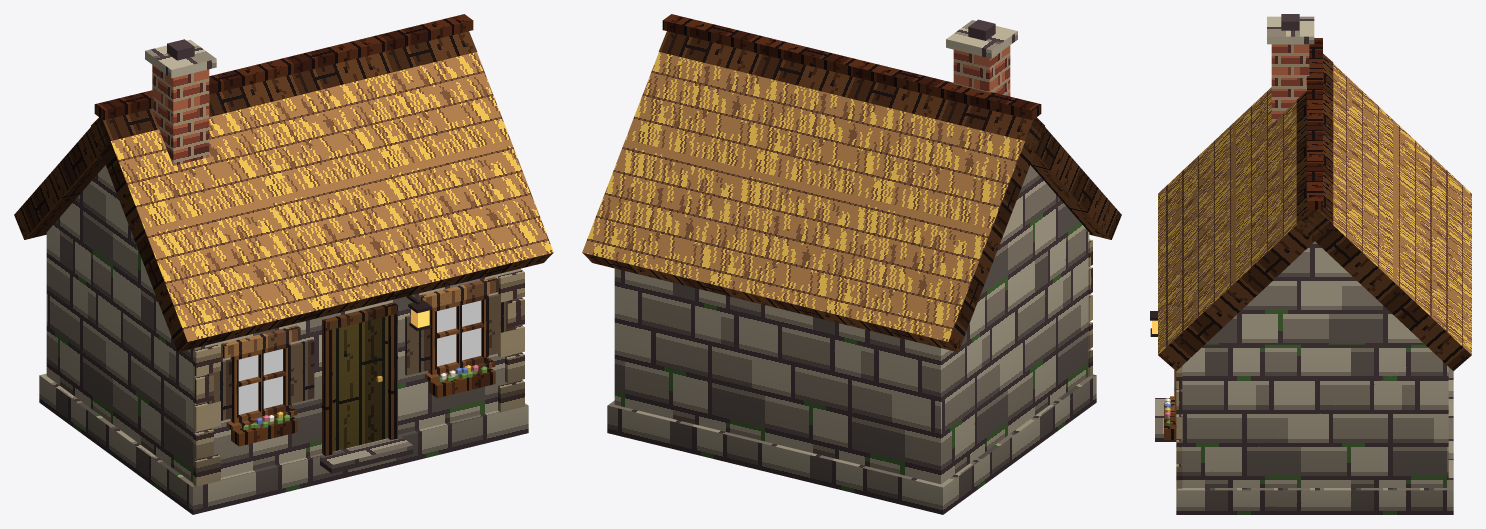
File: cottage_stone.glb
3 views of the same model, side by side, from view 1: azimuth 30°, elevation 25°; view 2: azimuth 150°, elevation 25°; view 3: azimuth 270°, elevation 25° (orthographic). The views are drawn at different scales.
Visible parts, largest first — view 1: cottage_stone; view 2: cottage_stone; view 3: cottage_stone.
Part boxes in pixels (<box>): cottage_stone: <box>14,14,553,514</box>; cottage_stone: <box>582,14,1121,514</box>; cottage_stone: <box>1150,14,1471,514</box>.
Bounding box in the file's own units: 6.34 × 6.74 × 5.29.
Materials: 7 (4 with a texture image).
